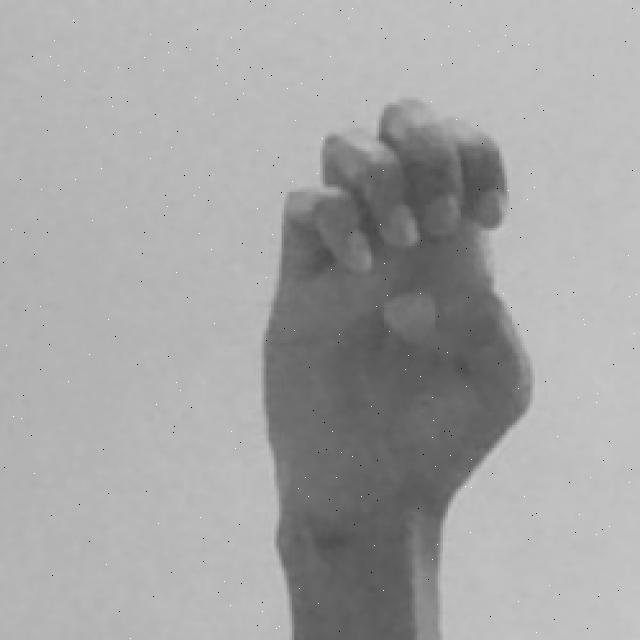E: (266, 97, 538, 640)
